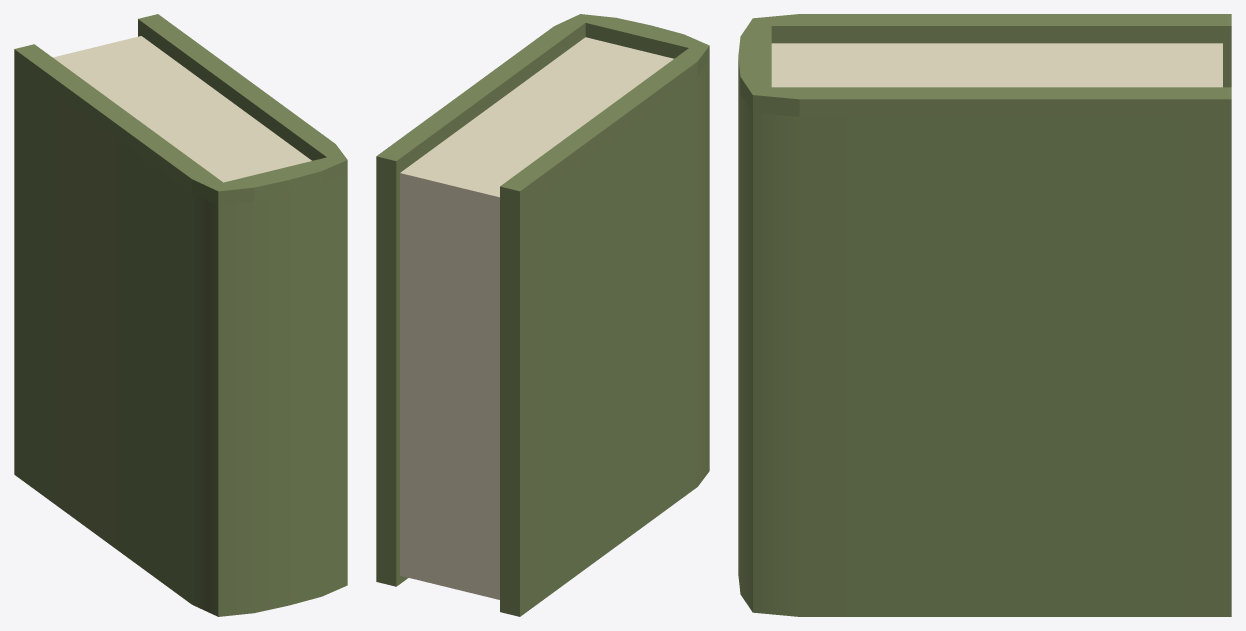
File: atoll_Book_02.fbx
3 renders of one model, left to right at view 1: azimuth 30°, elevation 25°; view 2: azimuth 150°, elevation 25°; view 3: azimuth 270°, elevation 25°, orthographic. The views are drawn at different scales.
Parts seen in each view (by area): view 1: Book_Green; view 2: Book_Green; view 3: Book_Green.
Boxes of the visible parts, x1=… form: Book_Green: x1=14, y1=14, x2=347, y2=616; Book_Green: x1=376, y1=14, x2=709, y2=616; Book_Green: x1=738, y1=14, x2=1231, y2=616.
Size of the model in its own units: 5.44 by 15.38 by 13.29.
